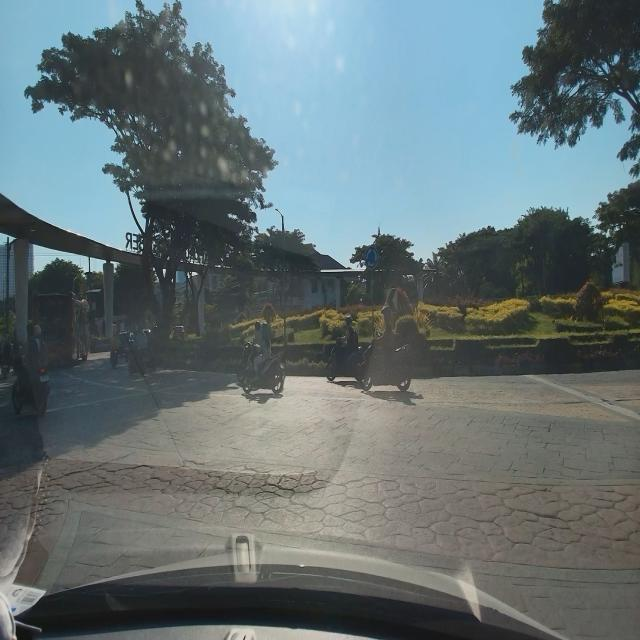bus: (26, 284, 93, 371)
